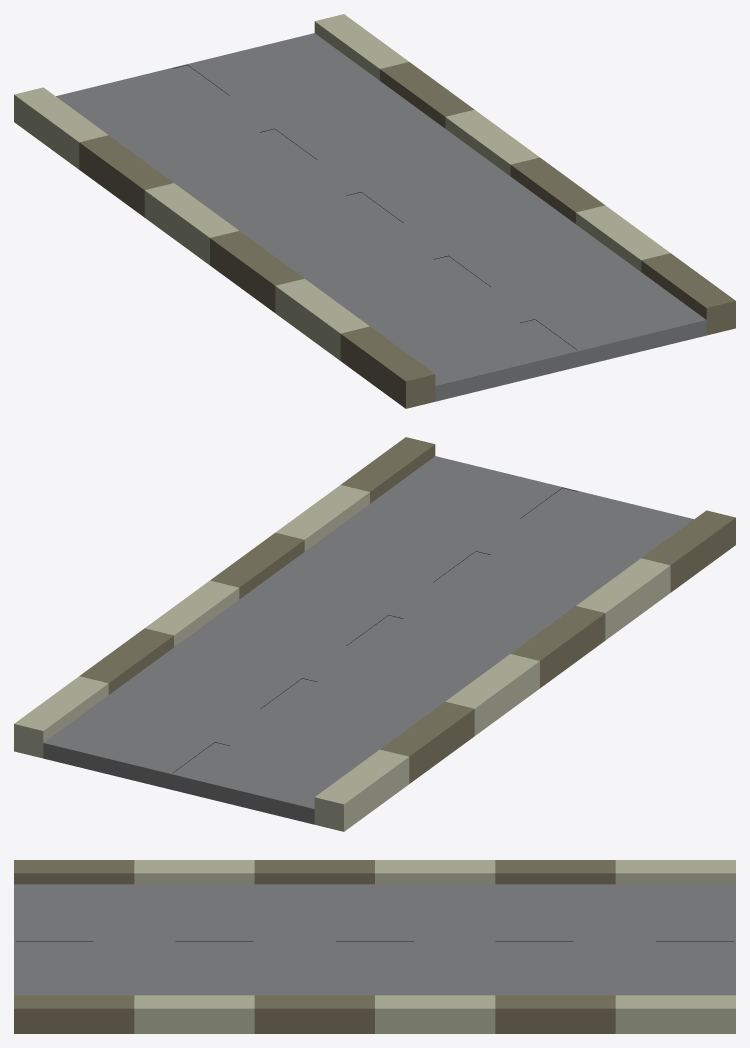
File: Road.fbx
The picture shows the model from 3 angles, top to bottom: view 1: azimuth 30°, elevation 25°; view 2: azimuth 150°, elevation 25°; view 3: azimuth 270°, elevation 25°; orthographic projection. The views are drawn at different scales.
Visible parts, largest first — view 1: Road, Road.sides.darker, Road.sides.lighter; view 2: Road, Road.sides.lighter, Road.sides.darker; view 3: Road, Road.sides.lighter, Road.sides.darker, Road.lines.
Part boxes in pixels (x1,y1,x2,y2): Road: (56,33,706,401); Road.sides.darker: (79,62,735,408); Road.sides.lighter: (14,14,670,360); Road: (43,456,693,824); Road.sides.lighter: (14,485,670,831); Road.sides.darker: (79,437,735,783); Road: (14,884,735,995); Road.sides.lighter: (134,860,735,1033); Road.sides.darker: (14,860,615,1033); Road.lines: (16,941,733,941).
Size of the model in its own units: 438 by 34.85 by 900.
